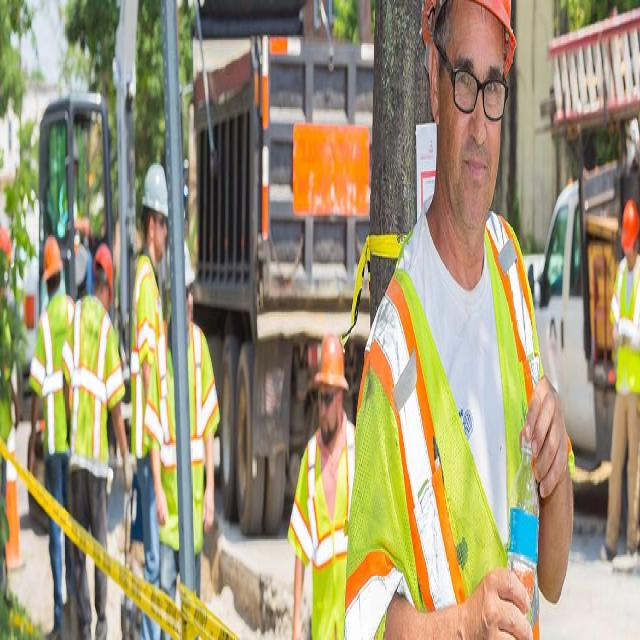Reflective-Jacket: (350, 205, 549, 640), (160, 320, 220, 555), (288, 422, 351, 637), (70, 296, 123, 483), (30, 291, 74, 472), (131, 246, 163, 452), (615, 254, 640, 397)
Safety-Helmet: (418, 0, 520, 54), (139, 155, 171, 226), (314, 326, 348, 392), (40, 226, 64, 284), (621, 189, 639, 246)
